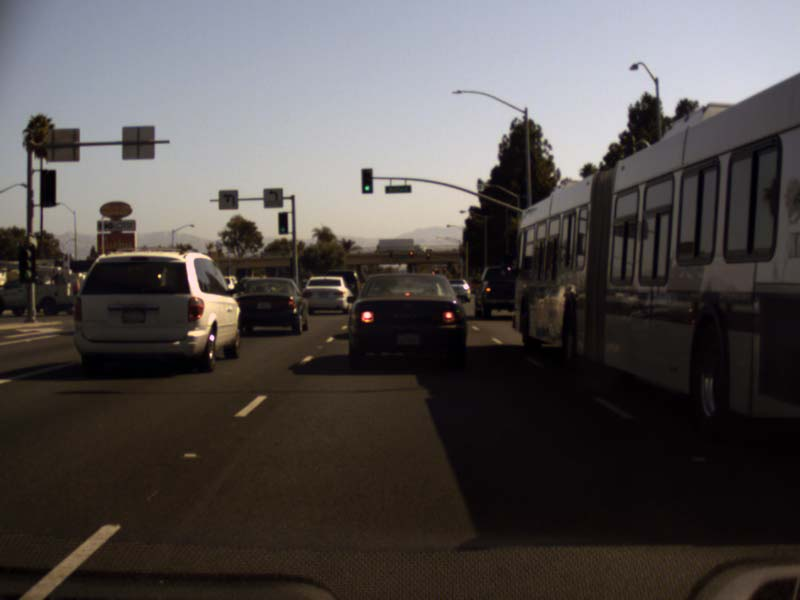Green: (18, 244, 36, 281), (361, 168, 371, 193), (278, 213, 287, 232)
Red: (409, 250, 413, 257), (426, 252, 429, 260)
